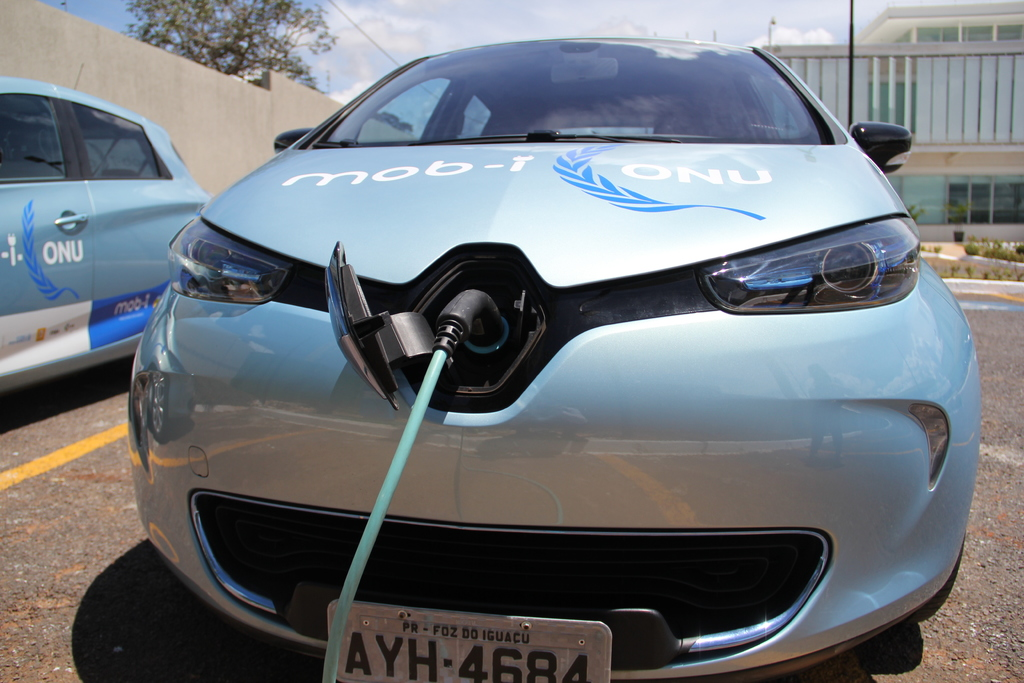Car: (120, 28, 968, 654), (0, 62, 211, 388)
